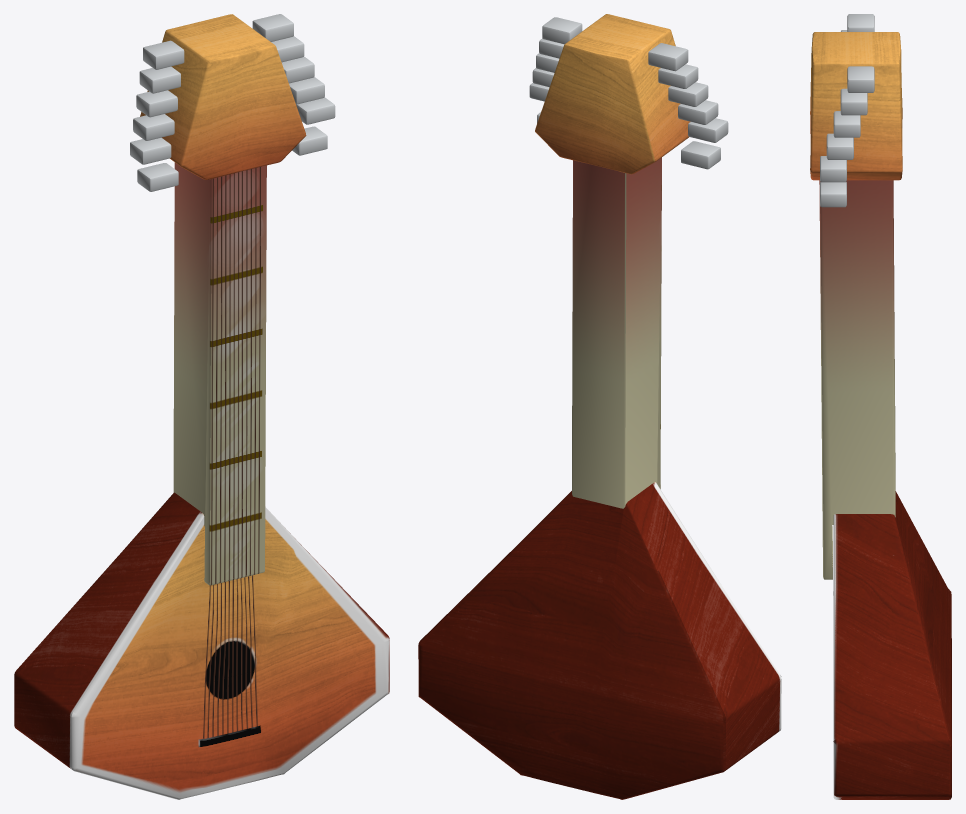
File: T3-3_bandola.fbx
3 renders of one model, left to right at view 1: azimuth 30°, elevation 25°; view 2: azimuth 150°, elevation 25°; view 3: azimuth 270°, elevation 25°, orthographic. The views are drawn at different scales.
Parts seen in each view (by area): view 1: Mesh; view 2: Mesh; view 3: Mesh.
Part boxes in pixels (bbox=[...]): Mesh: bbox=[14, 14, 389, 799]; Mesh: bbox=[418, 14, 781, 799]; Mesh: bbox=[810, 14, 951, 799].
Bounding box in the file's own units: 100 × 223 × 39.39.
